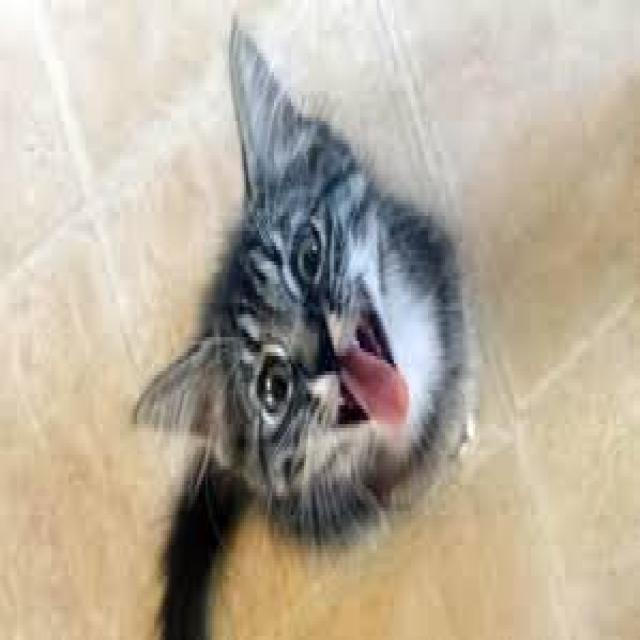cat: (174, 135, 398, 495)
